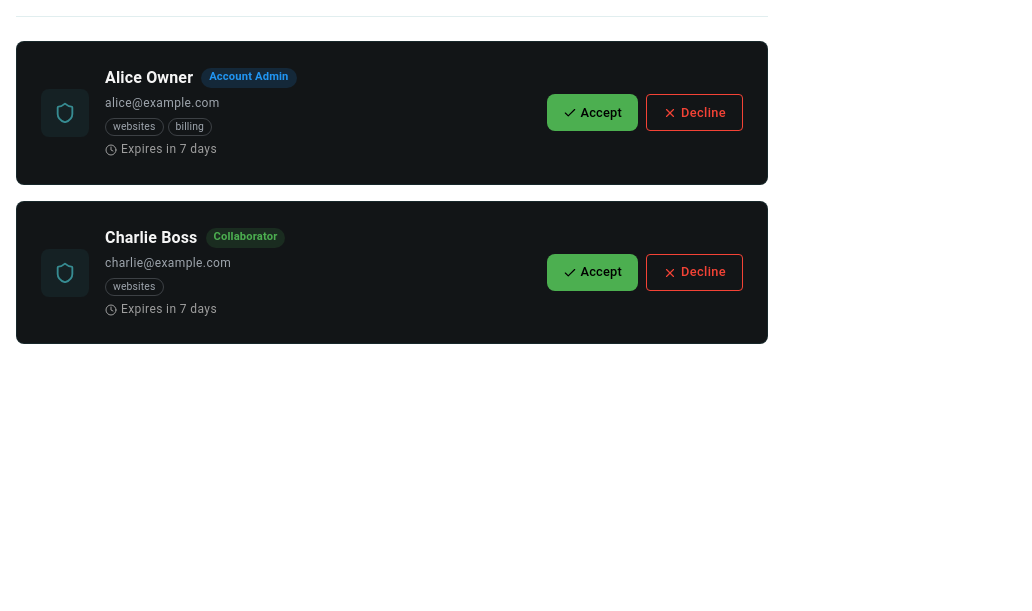
Scenario: AccountInvitesPage › handles 404 error on accept (already-processed invite)
This screenshot has width=1032, height=611.
Expected: the element with test id "account-invites-list" is shown, x1=16 y1=41 x2=768 y2=344
Click the button with test id "accept-btn-1": (592, 113) x1=546 y1=94 x2=638 y2=131
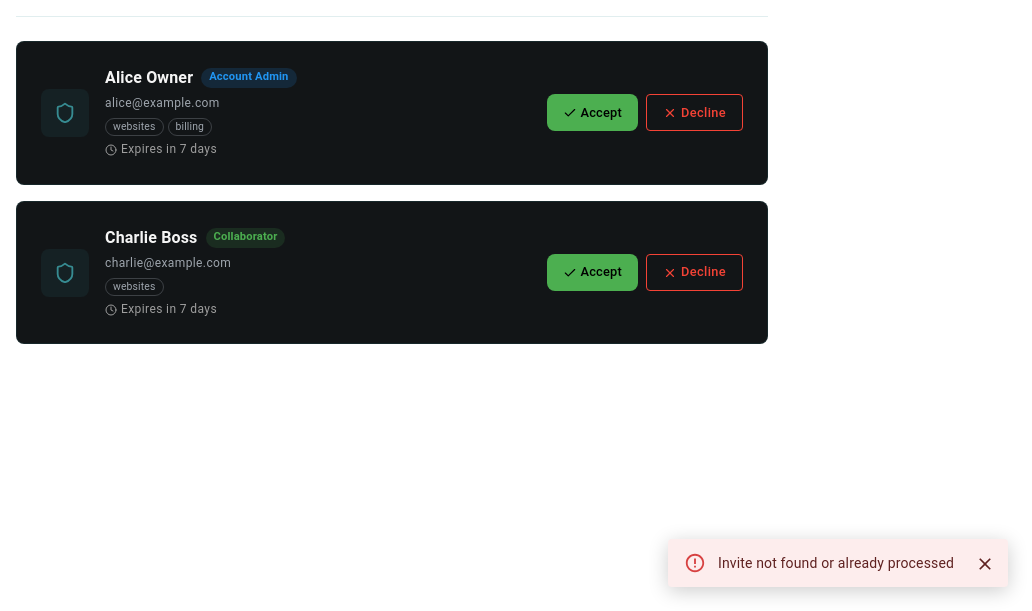
Now the text "Invite not found or already processed" is shown, box x1=718 y1=555 x2=954 y2=571
